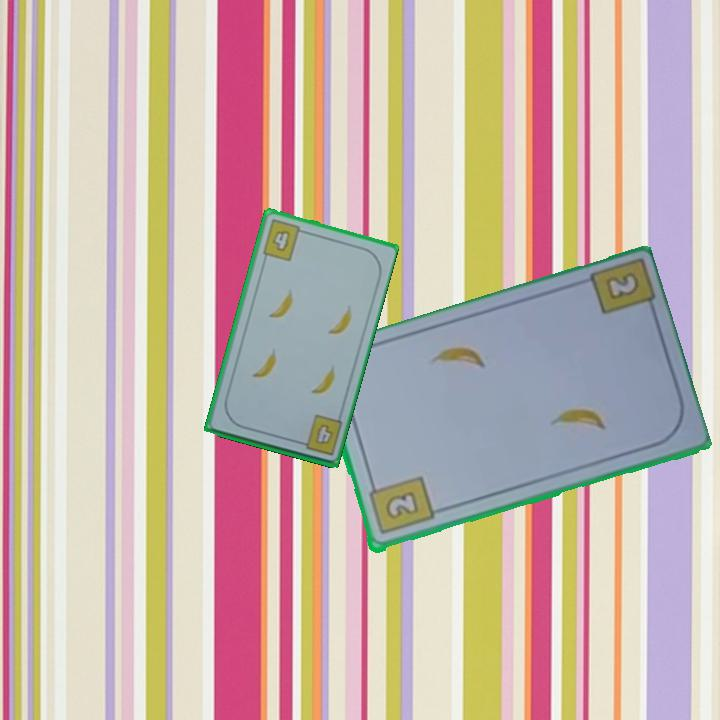2b: (365, 473, 436, 538), (605, 272, 639, 300)
4b: (293, 411, 345, 458), (259, 216, 309, 264)
